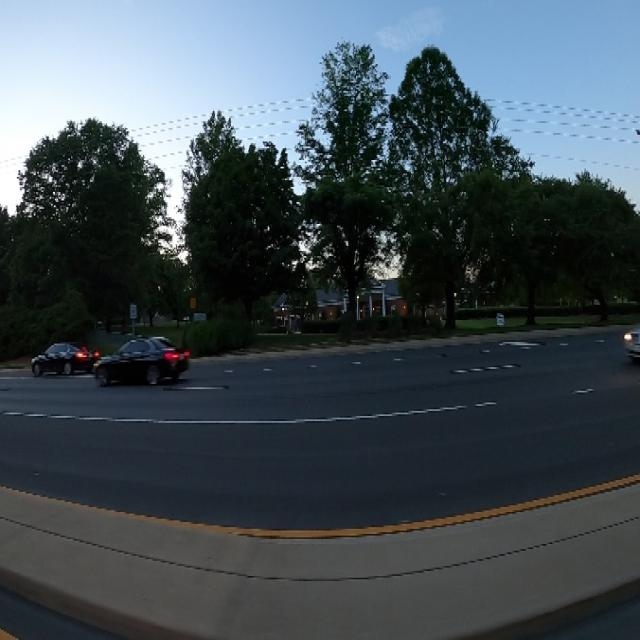cars: (96, 332, 192, 391), (28, 328, 98, 386), (622, 315, 640, 366)
